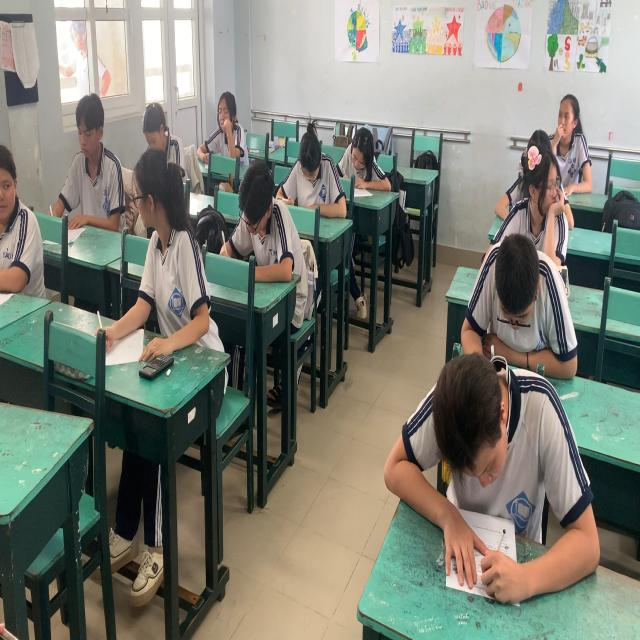cheating: (130, 156, 200, 343), (512, 150, 562, 250)
not_cheating: (410, 360, 568, 564), (471, 236, 572, 361), (232, 153, 296, 267), (64, 95, 120, 222), (290, 115, 334, 208), (210, 87, 241, 177), (344, 133, 382, 195), (132, 105, 181, 153), (544, 98, 584, 149)
